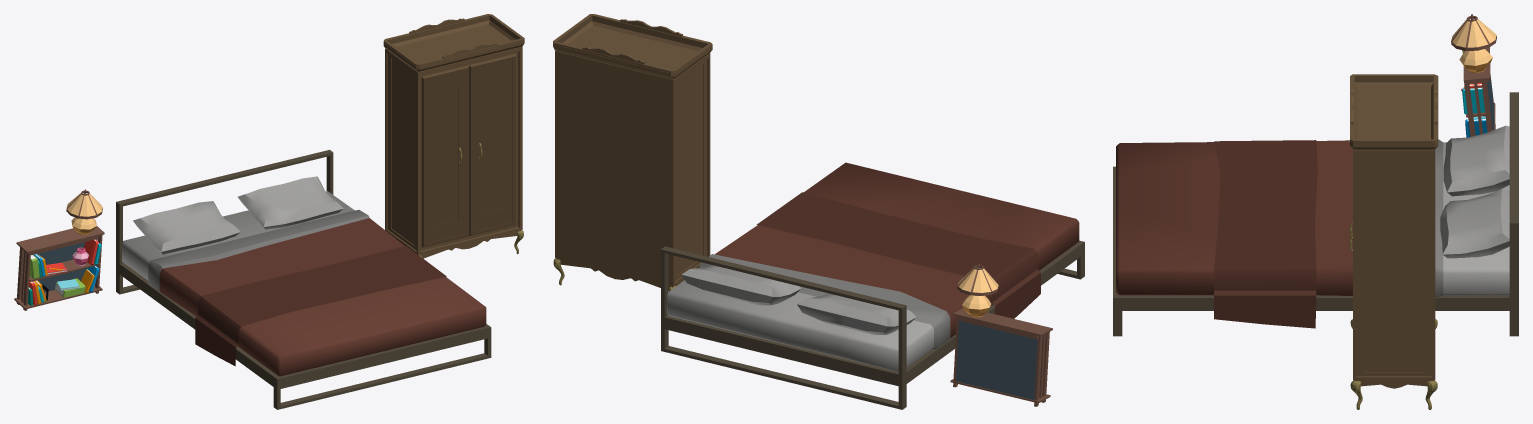
Rendered from bedroom.glb.
3 renders of one model, left to right at view 1: azimuth 30°, elevation 25°; view 2: azimuth 150°, elevation 25°; view 3: azimuth 270°, elevation 25°, orthographic. The views are drawn at different scales.
Visible parts, largest first — view 1: Bed_King, Closet, Closet_LeftDoor, Closet_RightDoor, group187267960; view 2: Bed_King, Closet, group187267960; view 3: Bed_King, Closet, group187267960.
Boxes of the visible parts, bbox=[...] form: Bed_King: bbox=[116, 149, 491, 409]; Closet: bbox=[383, 14, 524, 258]; Closet_LeftDoor: bbox=[421, 65, 468, 247]; Closet_RightDoor: bbox=[469, 53, 515, 235]; group187267960: bbox=[14, 189, 104, 310]; Bed_King: bbox=[661, 162, 1084, 409]; Closet: bbox=[553, 14, 712, 291]; group187267960: bbox=[950, 263, 1052, 406]; Bed_King: bbox=[1113, 92, 1518, 336]; Closet: bbox=[1350, 74, 1438, 409]; group187267960: bbox=[1451, 14, 1496, 137].
Bounding box in the file's own units: 6.42 × 3.01 × 3.95.
